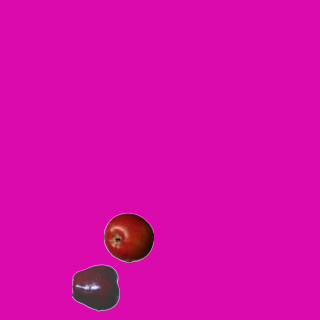Apple Braeburn: (103, 212, 153, 262)
Apple Red Delicious: (71, 262, 121, 312)
